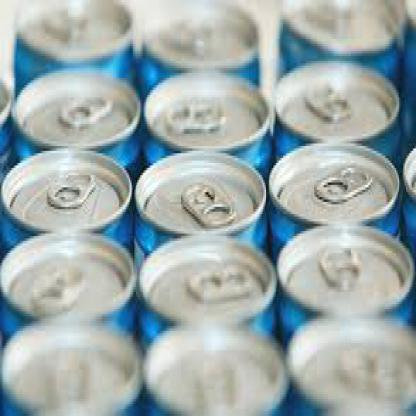METAL: (130, 148, 268, 258), (7, 63, 140, 173), (277, 221, 415, 324), (0, 314, 143, 413), (136, 234, 279, 333), (140, 318, 287, 414), (269, 139, 400, 243), (272, 61, 402, 165), (0, 146, 132, 248), (0, 231, 133, 331), (143, 68, 270, 168), (287, 314, 415, 413), (13, 0, 136, 95), (274, 2, 400, 90), (137, 5, 258, 85), (402, 141, 414, 251), (0, 82, 12, 166)
